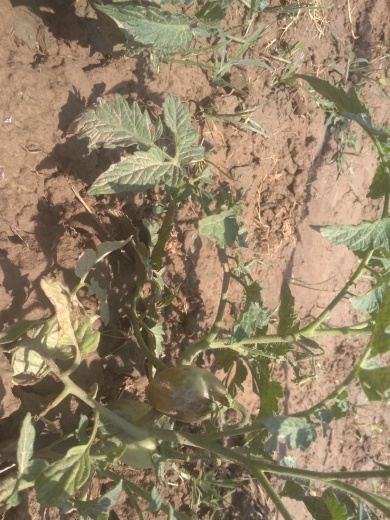tomato: (145, 358, 221, 438)
tomato diseased leaf: (36, 265, 115, 371), (67, 97, 158, 156), (87, 146, 180, 195)
tomato plant: (8, 86, 271, 506)
